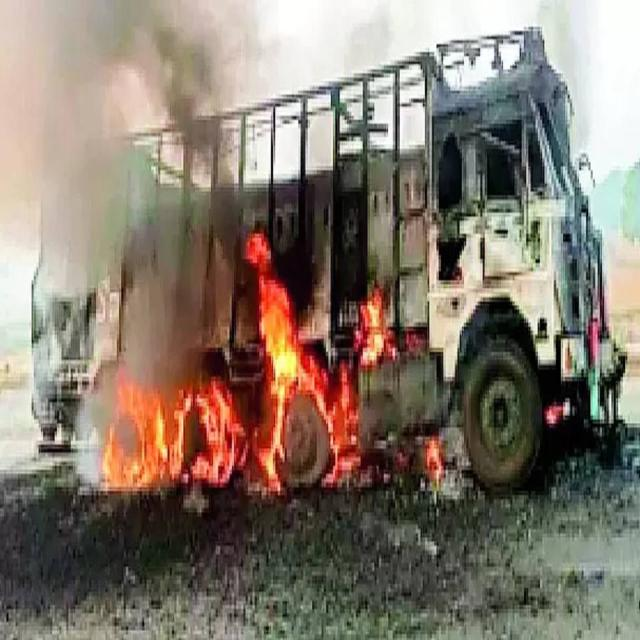accident: (92, 29, 624, 492)
